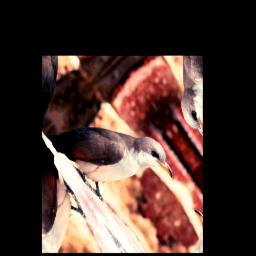Cuckoo: (45, 70, 179, 236)
